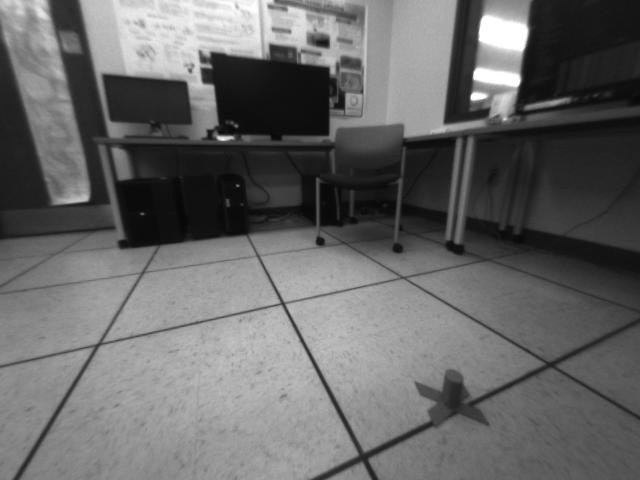X: (414, 366, 491, 428)
